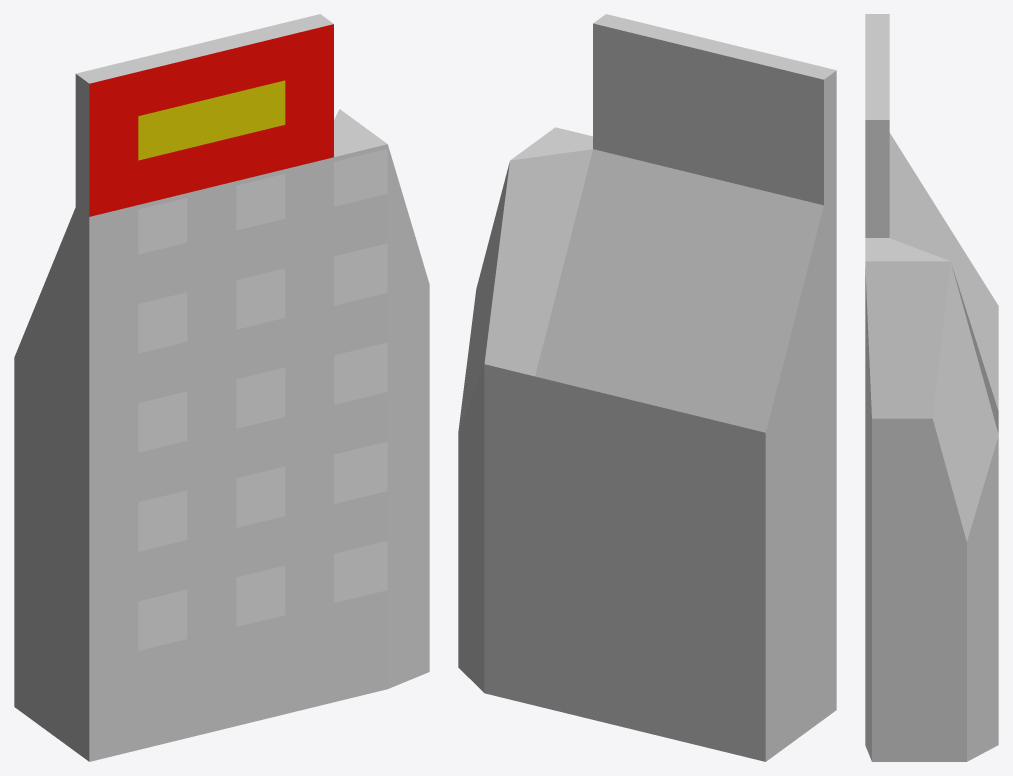
File: House1.fbx
3 views of the same model, side by side, from view 1: azimuth 30°, elevation 25°; view 2: azimuth 150°, elevation 25°; view 3: azimuth 270°, elevation 25° (orthographic). The views are drawn at different scales.
Visible parts, largest first — view 1: Cube; view 2: Cube; view 3: Cube.
Boxes of the visible parts, x1,y1,x2,y2 form: Cube: (14, 14, 429, 761); Cube: (458, 14, 836, 761); Cube: (865, 14, 998, 761).
Bounding box in the file's own units: 528 × 994 × 200.
